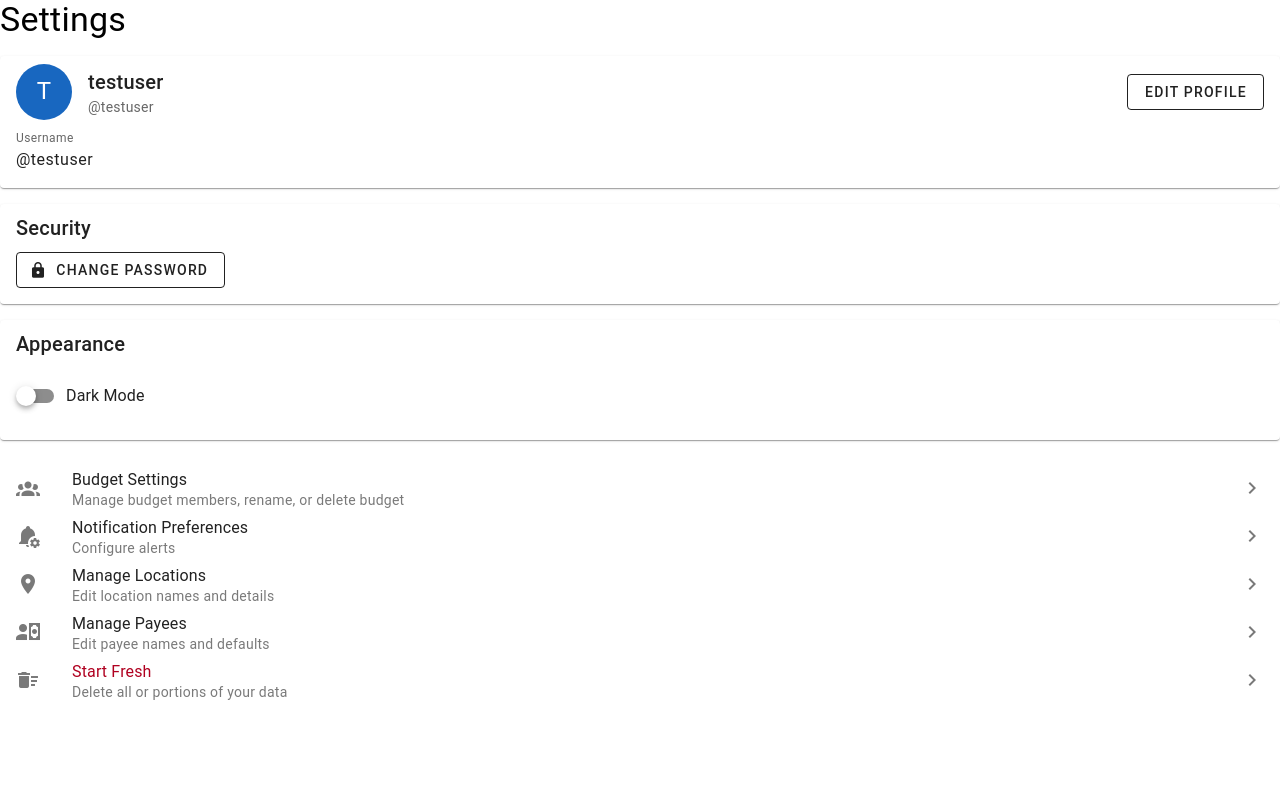
Test: SettingsView › can open password change dialog
This screenshot has width=1280, height=800.
Click the button "Change Password" at (121, 270), box [16,252,225,288]
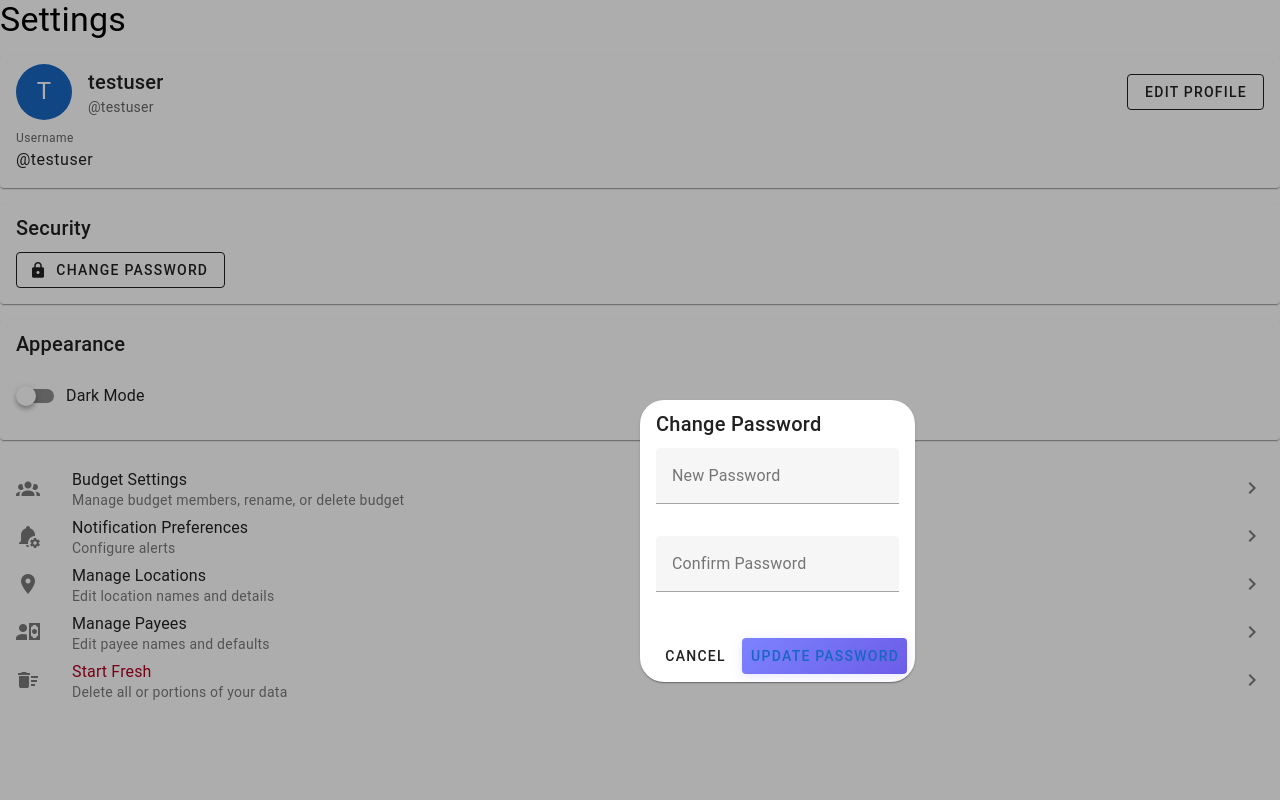
expect the text "New Password" is shown: met, box [672,464,780,488]
expect the text "Confirm Password" is shown: met, box [672,552,806,576]
